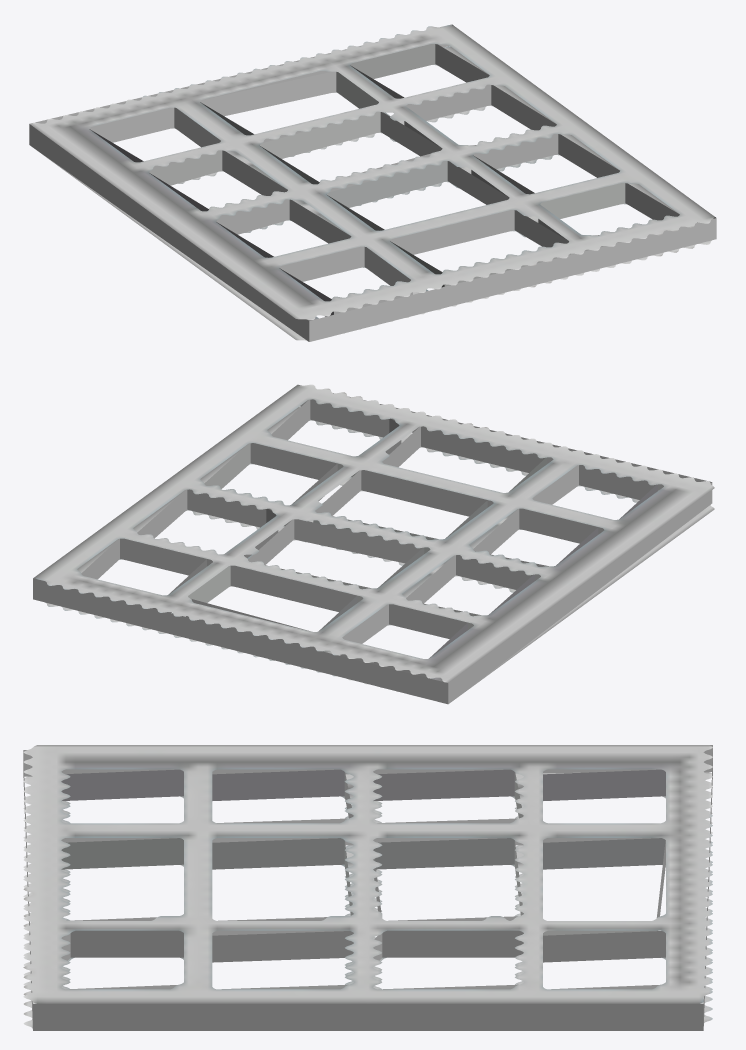
Rendered from pz_native_fixtures_windows_white_29_frame.obj.
3 renders of one model, top to bottom at view 1: azimuth 30°, elevation 25°; view 2: azimuth 150°, elevation 25°; view 3: azimuth 270°, elevation 25°, orthographic. The views are drawn at different scales.
Visible parts, largest first — view 1: pz_native_fixtures_windows_white_29_frame; view 2: pz_native_fixtures_windows_white_29_frame; view 3: pz_native_fixtures_windows_white_29_frame.
Part boxes in pixels (x1,y1,x2,y2): pz_native_fixtures_windows_white_29_frame: (29,24,716,341); pz_native_fixtures_windows_white_29_frame: (33,384,714,704); pz_native_fixtures_windows_white_29_frame: (23,745,712,1030).
Bounding box in the file's own units: 0.8594 × 0.04 × 0.9696.
Materials: 1 (1 with a texture image).
